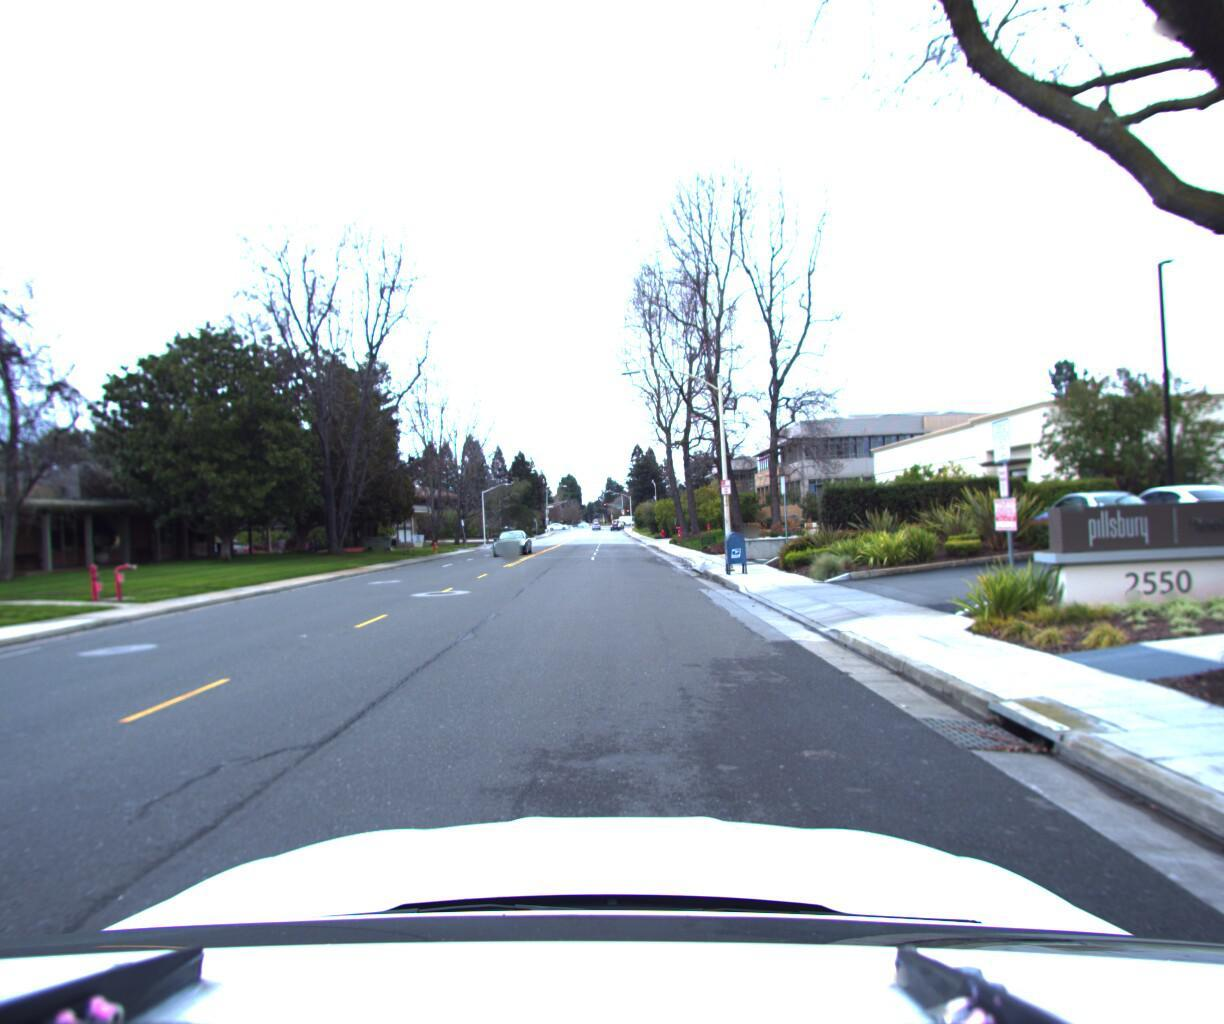car: (1022, 485, 1169, 546), (494, 529, 539, 558)
